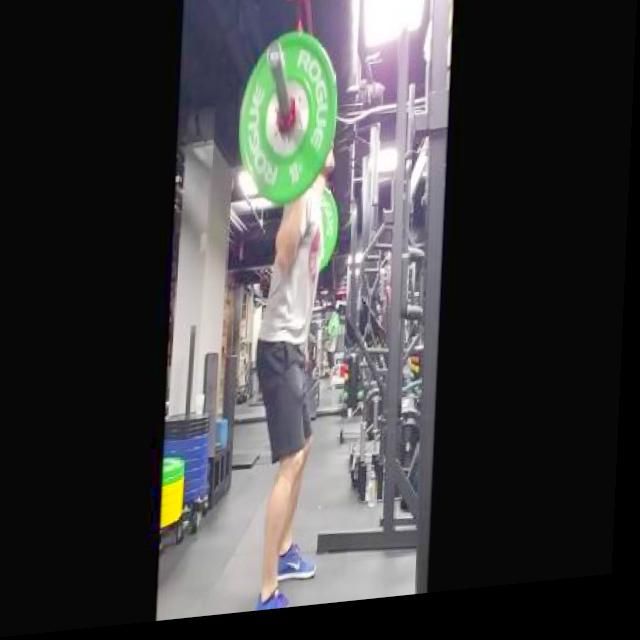barbell: (221, 31, 345, 218)
